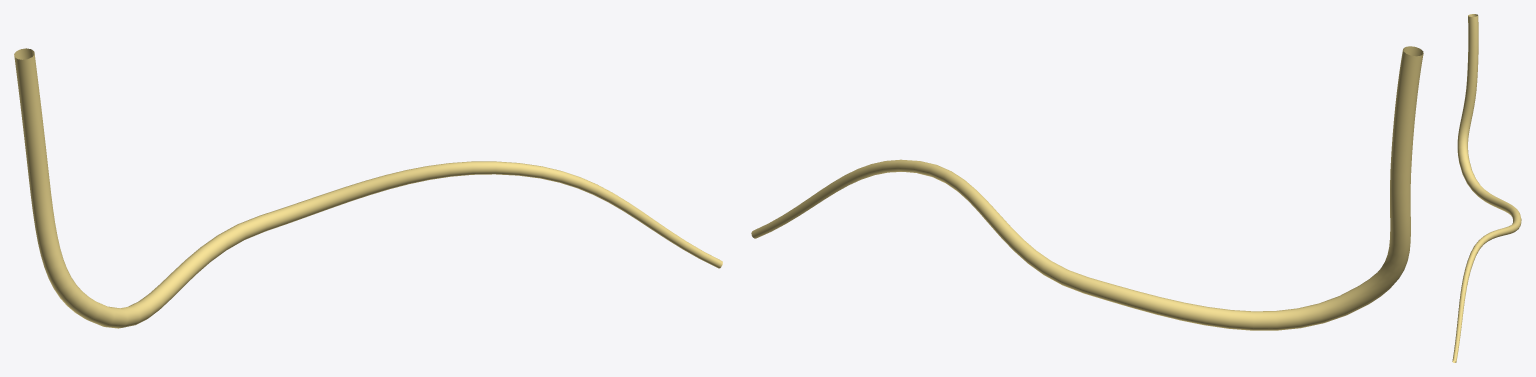
The picture shows the model from 3 angles, left to right: view 1: azimuth 30°, elevation 25°; view 2: azimuth 150°, elevation 25°; view 3: azimuth 270°, elevation 25°; orthographic projection. The views are drawn at different scales.
Parts seen in each view (by area): view 1: ZA_8cc5c44093a563cb; view 2: ZA_8cc5c44093a563cb; view 3: ZA_8cc5c44093a563cb.
Part boxes in pixels (bbox=[...]): ZA_8cc5c44093a563cb: bbox=[14, 48, 722, 328]; ZA_8cc5c44093a563cb: bbox=[751, 46, 1423, 330]; ZA_8cc5c44093a563cb: bbox=[1452, 14, 1521, 362].
Bounding box in the file's own units: 0.0375 × 0.0191 × 0.00653.
